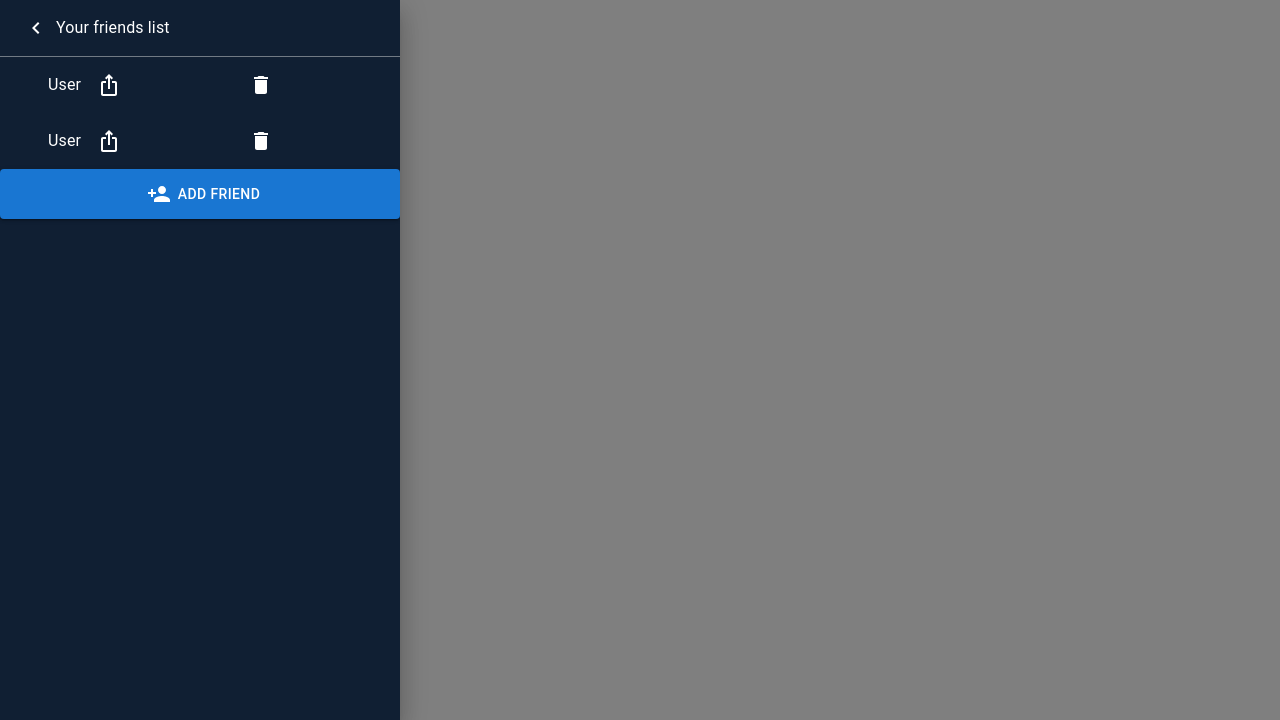
Test: check delete friend
This screenshot has width=1280, height=720.
Note: Buscamos el boton eliminar y le damos
Click the button with test id "del-amigo2": (261, 141) [249,129,273,153]
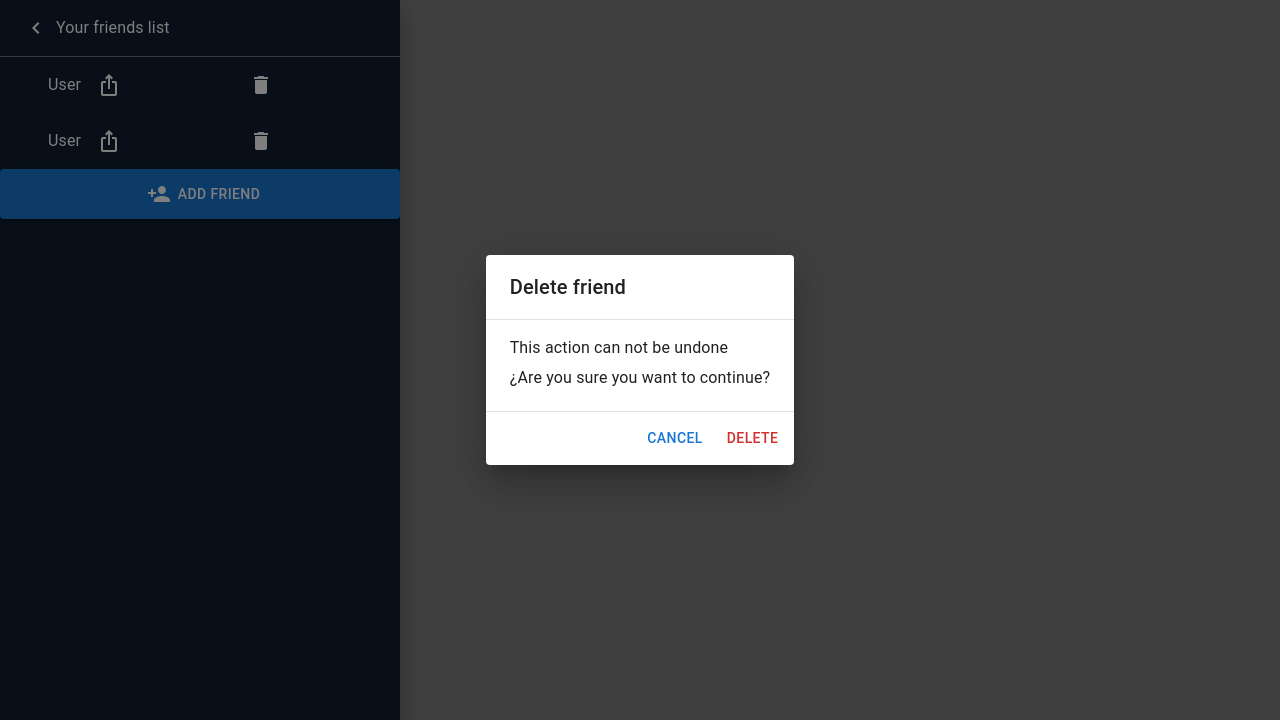
Click the button "Delete": (753, 439) [719,420,786,457]
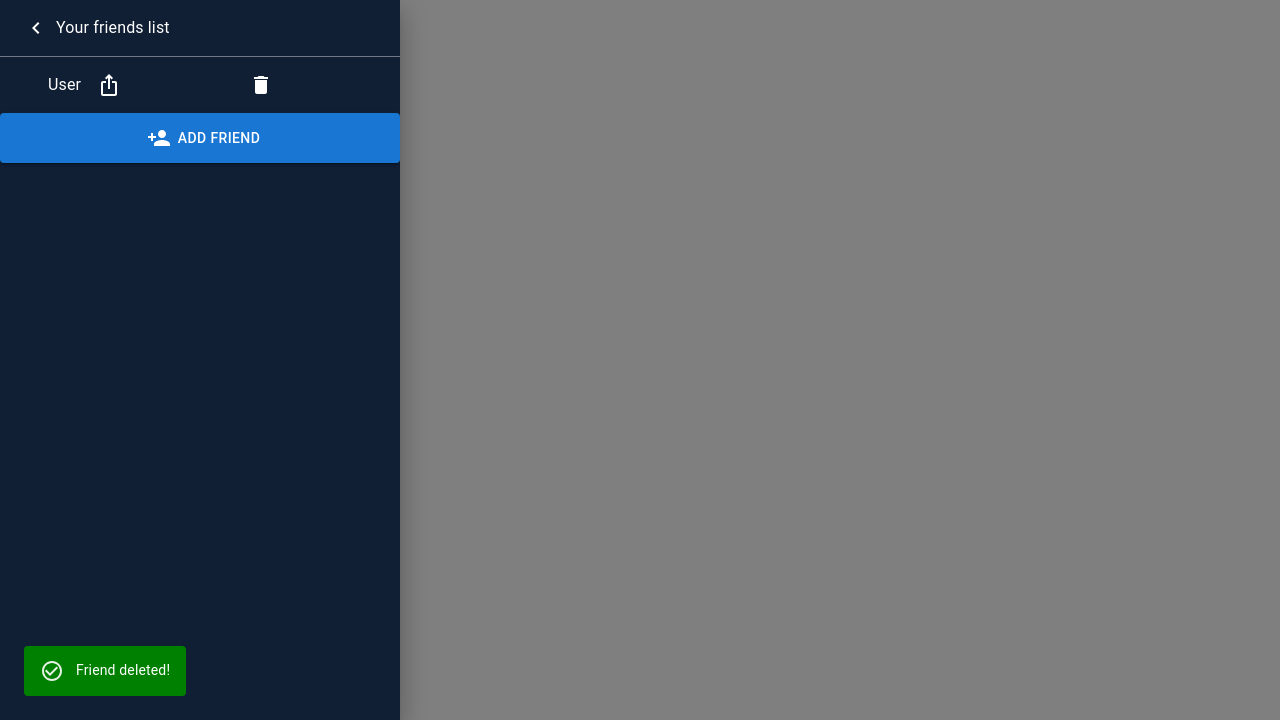
Now the text "Friend deleted!" is shown, box [76,662,170,678]
